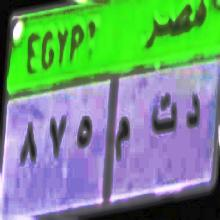5: (74, 111, 94, 155)
7: (47, 111, 66, 163)
8: (19, 120, 38, 167)
daal: (185, 92, 201, 132)
meem: (113, 116, 131, 166)
taa: (148, 94, 178, 138)
